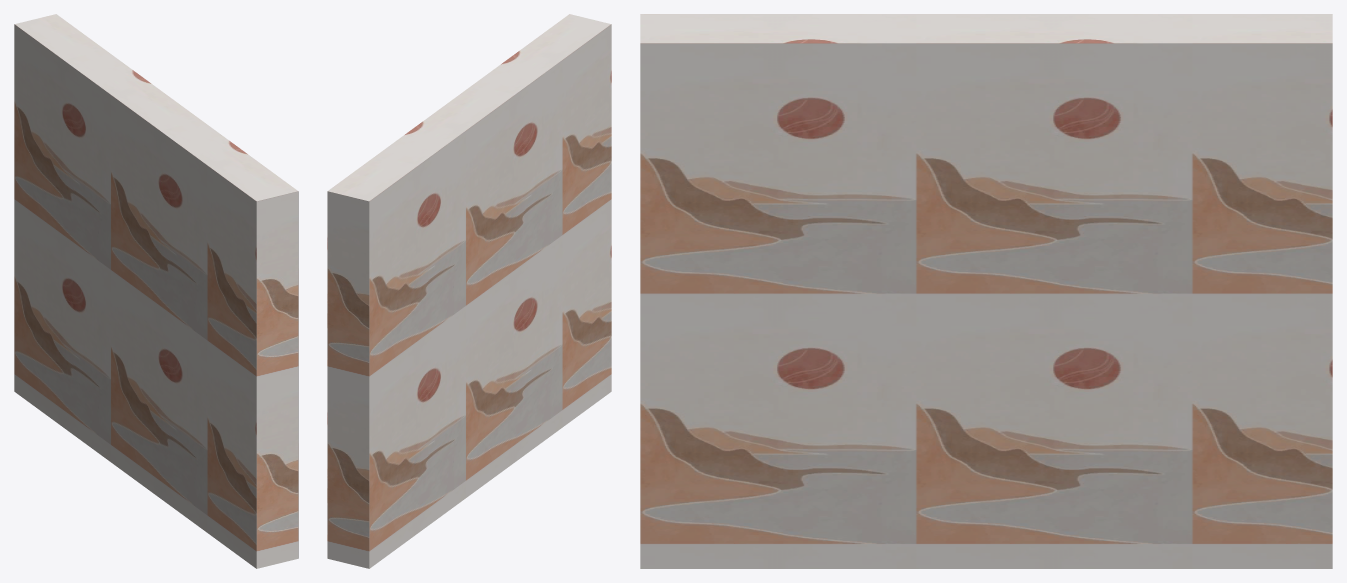
Rendered from pared.obj.
3 renders of one model, left to right at view 1: azimuth 30°, elevation 25°; view 2: azimuth 150°, elevation 25°; view 3: azimuth 270°, elevation 25°, orthographic. The views are drawn at different scales.
Visible parts, largest first — view 1: Part2, Part5, Part6, Part4; view 2: Part2, Part3, Part6, Part4; view 3: Part4, Part6.
Boxes of the visible parts, bbox=[...] form: Part2: bbox=[14, 24, 256, 568]; Part5: bbox=[256, 191, 298, 568]; Part6: bbox=[15, 14, 297, 201]; Part4: bbox=[298, 191, 298, 558]; Part2: bbox=[369, 24, 611, 568]; Part3: bbox=[327, 191, 369, 568]; Part6: bbox=[328, 14, 610, 201]; Part4: bbox=[327, 191, 327, 558]; Part4: bbox=[640, 43, 1332, 568]; Part6: bbox=[640, 14, 1332, 43].
Bounding box in the file's own units: 2.01 × 16.81 × 20.07.
